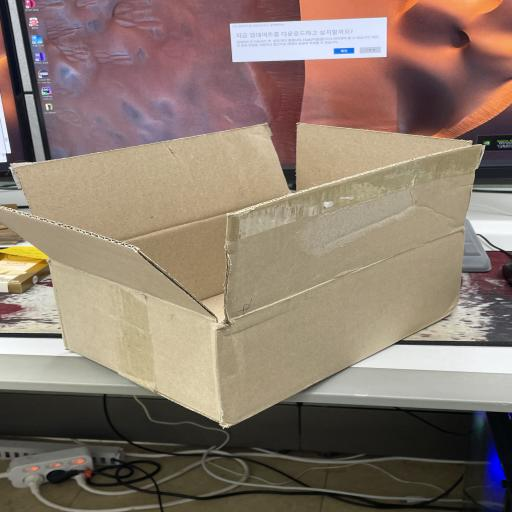box: (1, 121, 486, 426)
opened: (1, 121, 486, 326)
